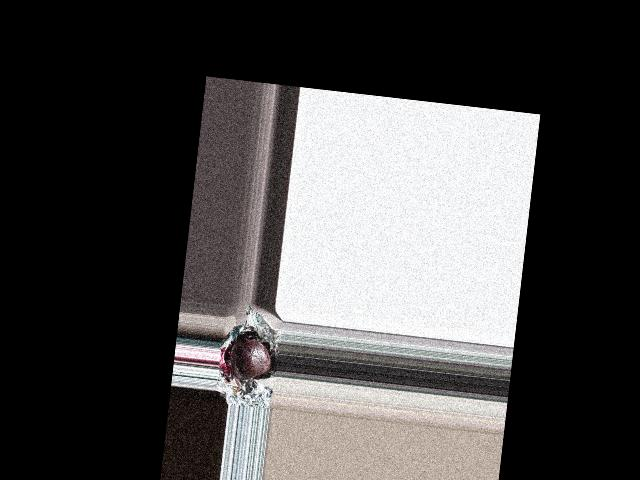beet: (229, 337, 273, 383)
